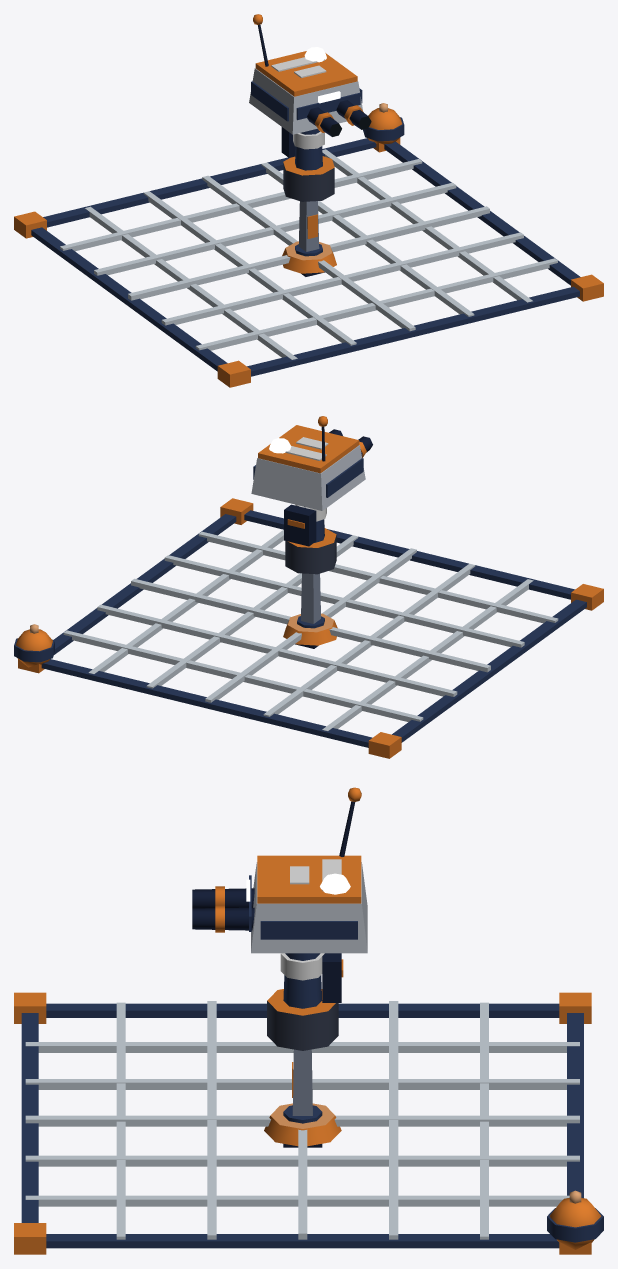
The model's file is yuzuha_sentry.glb.
3 views of the same model, one above another, from view 1: azimuth 30°, elevation 25°; view 2: azimuth 150°, elevation 25°; view 3: azimuth 270°, elevation 25° (orthographic). The views are drawn at different scales.
Visible parts, largest first — view 1: net_mesh, sentry_head, sentry_body, net_weight, sentry_leg; view 2: net_mesh, sentry_head, sentry_body, net_weight, sentry_leg; view 3: net_mesh, sentry_head, sentry_body, net_weight, sentry_leg, sentry_band_tint, sentry_light_tint.
Part boxes in pixels (x1,y1,x2,y2): net_mesh: (14, 138, 603, 387); sentry_head: (249, 14, 371, 136); sentry_body: (281, 127, 334, 201); net_weight: (363, 103, 404, 144); sentry_leg: (298, 201, 324, 276); net_mesh: (18, 498, 603, 758); sentry_head: (251, 416, 372, 510); sentry_body: (284, 504, 336, 574); net_weight: (14, 624, 54, 667); sentry_leg: (295, 573, 320, 648); net_mesh: (14, 992, 591, 1254); sentry_head: (192, 787, 367, 953); sentry_body: (267, 953, 343, 1050); net_weight: (547, 1190, 603, 1249); sentry_leg: (283, 1049, 322, 1147); sentry_band_tint: (280, 953, 324, 980); sentry_light_tint: (246, 873, 350, 901).
Bounding box in the file's own units: 0.909 × 0.565 × 0.909.
